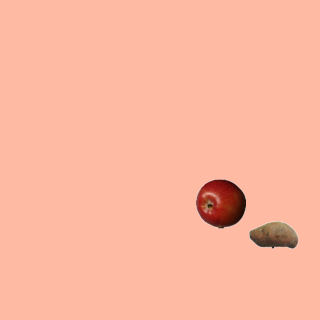Apple Braeburn: (195, 178, 245, 228)
Potato Sweet: (248, 209, 298, 259)
